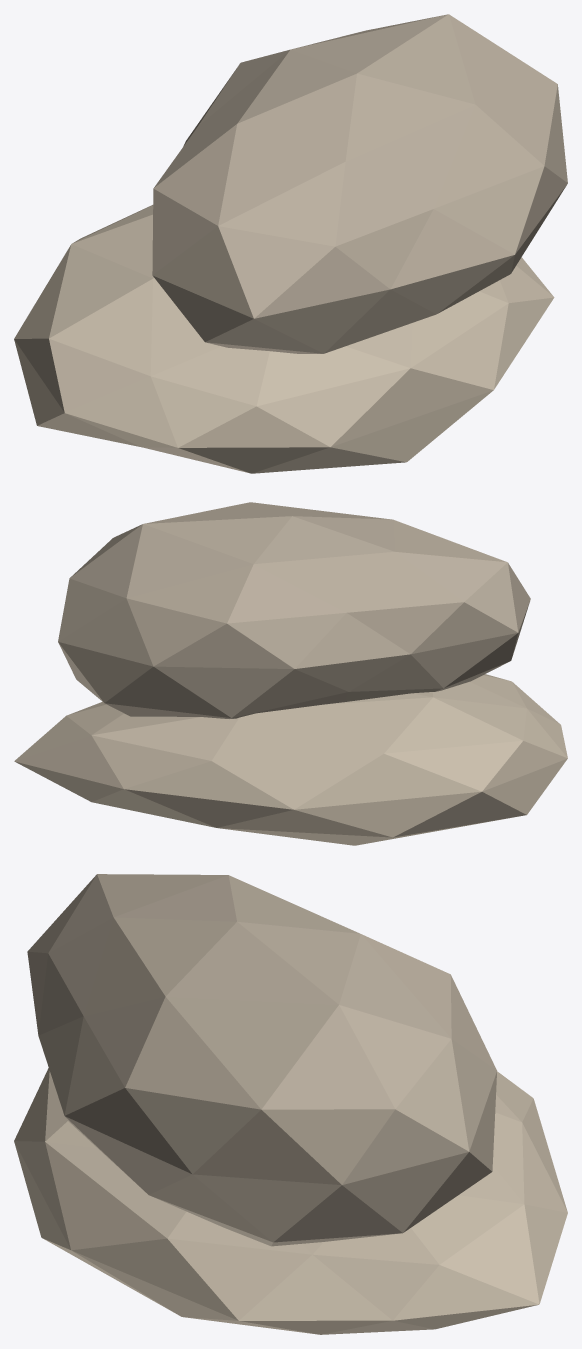
File: campo_rock_slate_3.glb
The picture shows the model from 3 angles, top to bottom: view 1: azimuth 30°, elevation 25°; view 2: azimuth 150°, elevation 25°; view 3: azimuth 270°, elevation 25°; orthographic projection. The views are drawn at different scales.
Parts seen in each view (by area): view 1: campo_rock_slate_3.glb; view 2: campo_rock_slate_3.glb; view 3: campo_rock_slate_3.glb.
Part boxes in pixels (box(x1,y1,x2,y2)): campo_rock_slate_3.glb: box(14, 14, 567, 473); campo_rock_slate_3.glb: box(14, 502, 567, 845); campo_rock_slate_3.glb: box(14, 874, 567, 1334).
Bounding box in the file's own units: 1.91 × 1.15 × 1.56.
